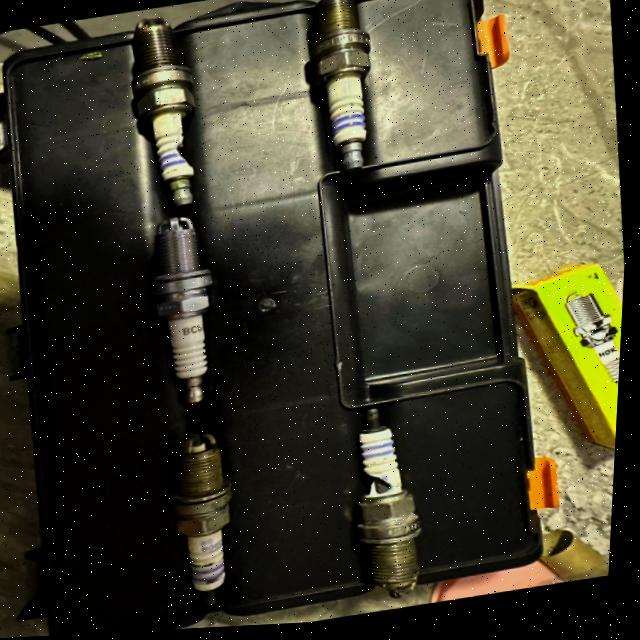damaged_spark-plug: (333, 393, 456, 620), (124, 11, 208, 213)
spark-plug: (154, 206, 242, 415), (165, 424, 252, 616), (299, 0, 380, 187)
